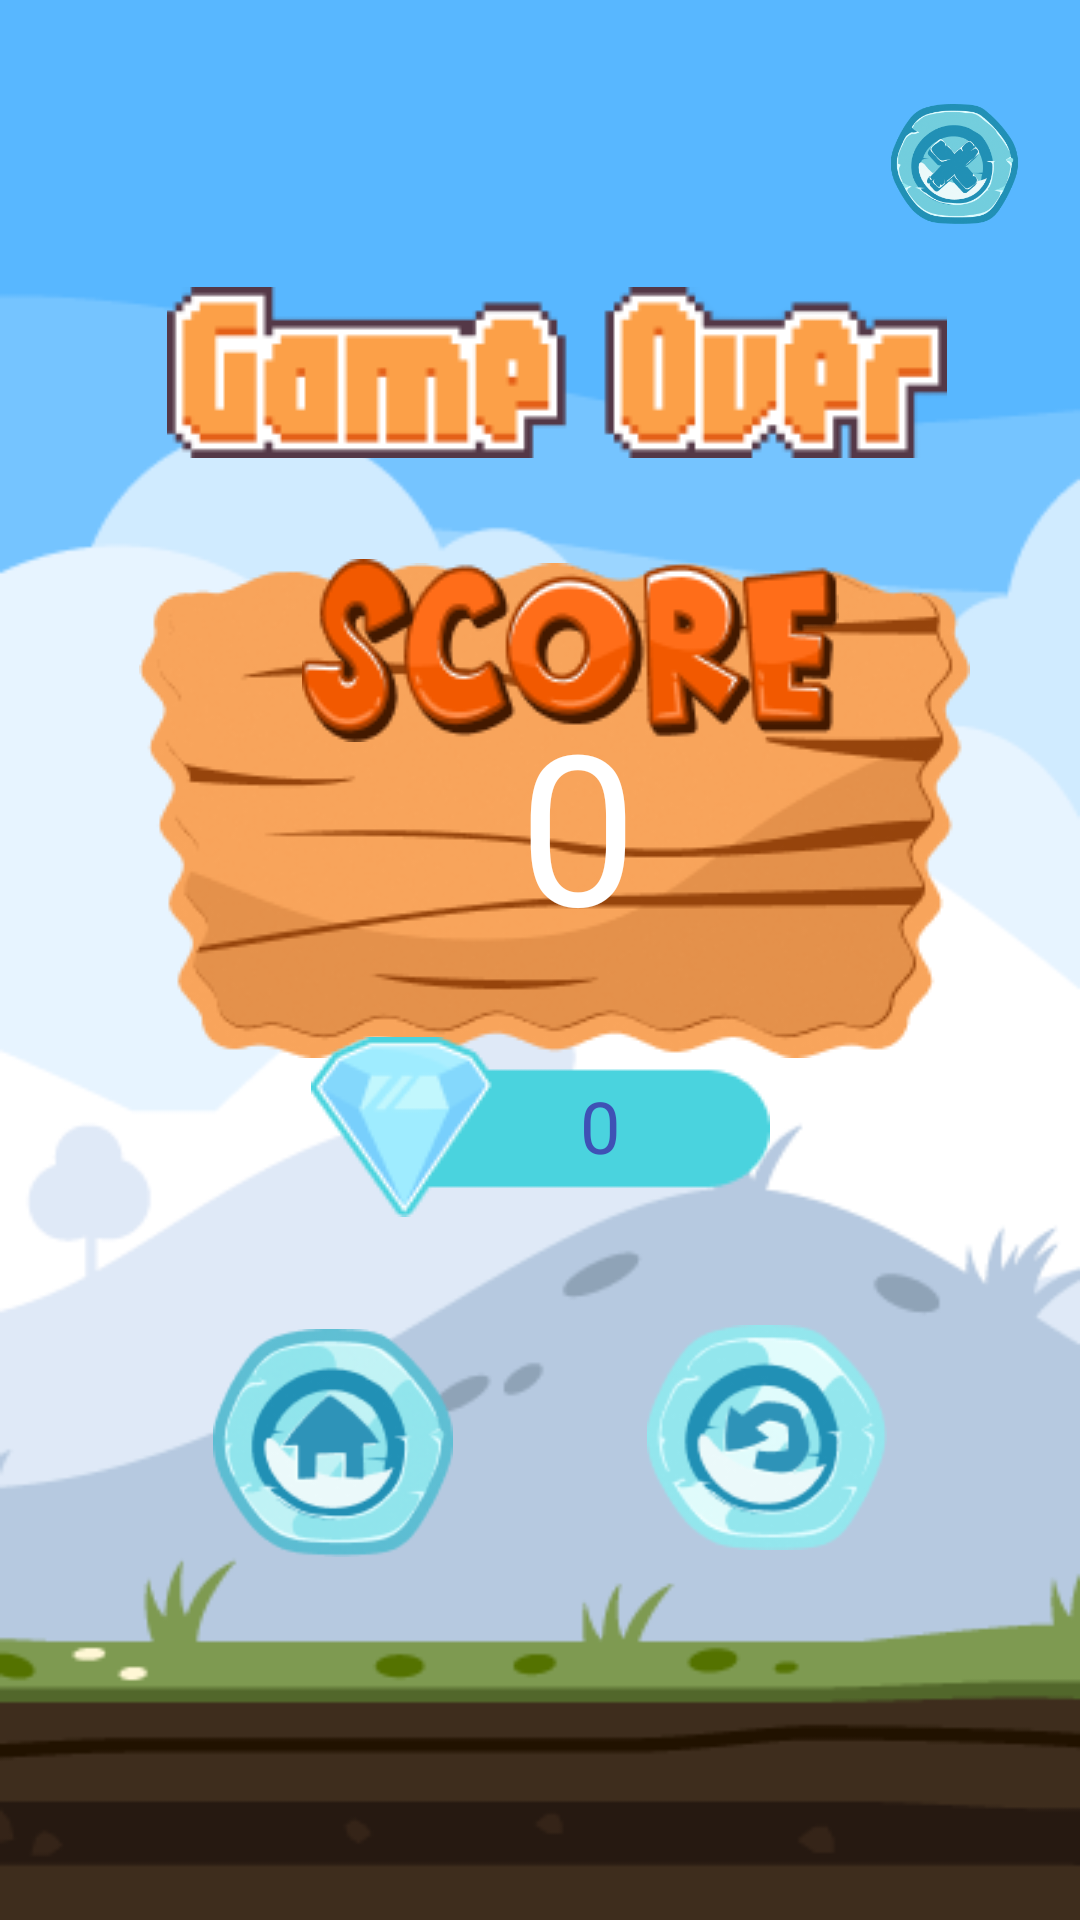

Locate icon controls on the screen. Image size 1080×1920, boxes as (x1, y1, x2, y2).
exit: (891, 104, 1018, 224)
home: (213, 1302, 453, 1584)
restart: (647, 1325, 884, 1550)
